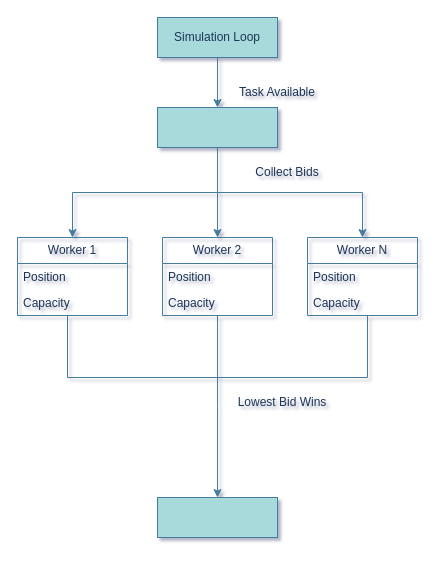
This 441x561 diagram has some shape labels left out. The shapes that lost their labels are listed below. From the top down, each one's centre as x and y in pixels, then its label:
At point (217, 127): "Auction Manager".
At point (217, 517): "Task Assignment".
